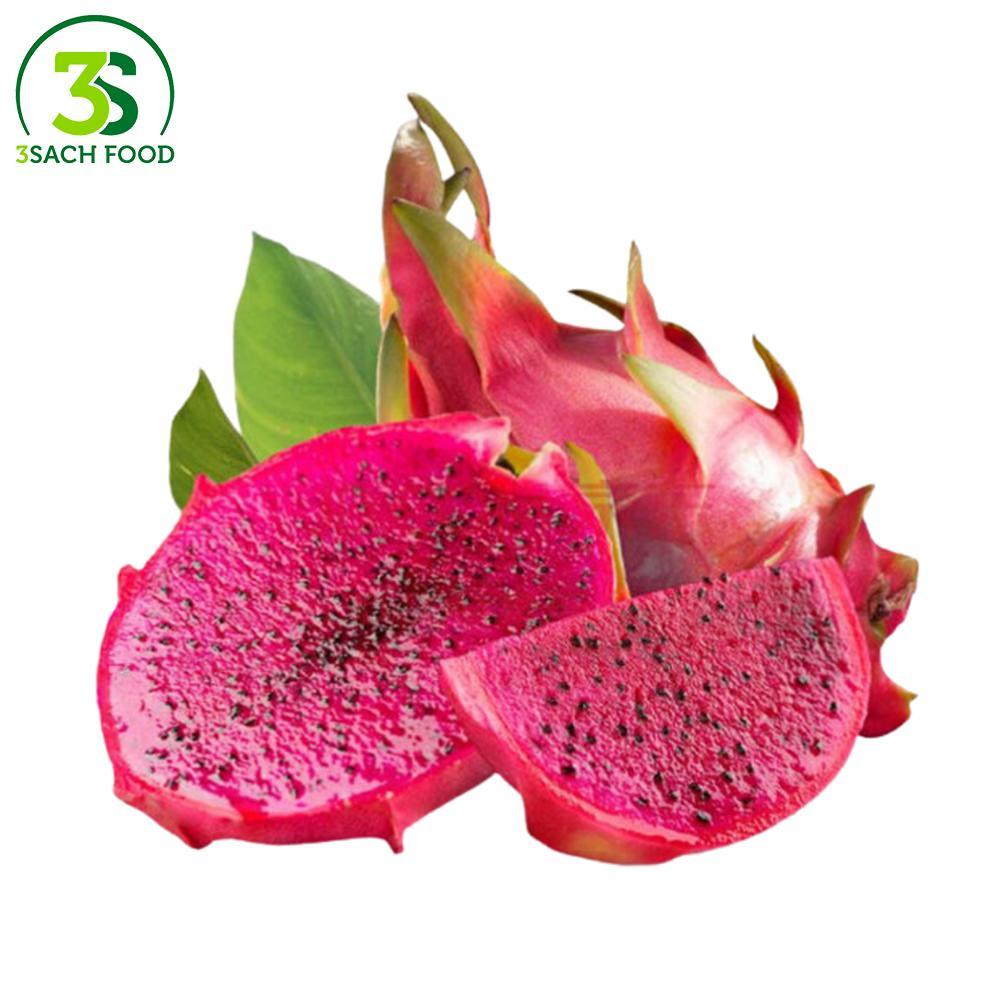dragon-fruit: (90, 408, 625, 857), (413, 318, 920, 747), (435, 550, 875, 872)
